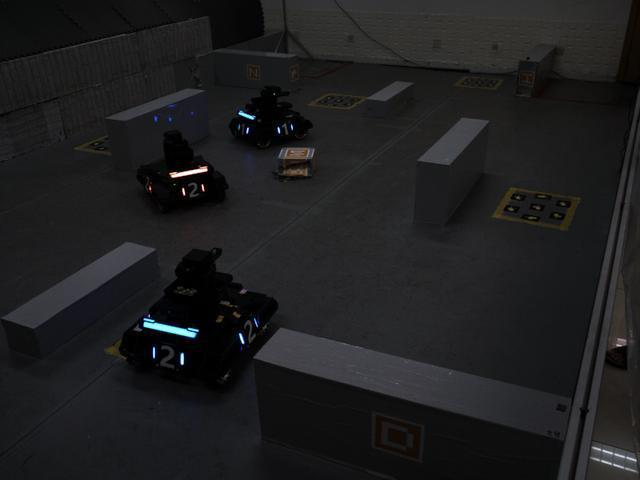armor: (145, 339, 189, 374), (234, 315, 261, 350), (177, 179, 209, 201), (269, 119, 299, 139), (232, 115, 254, 140)
